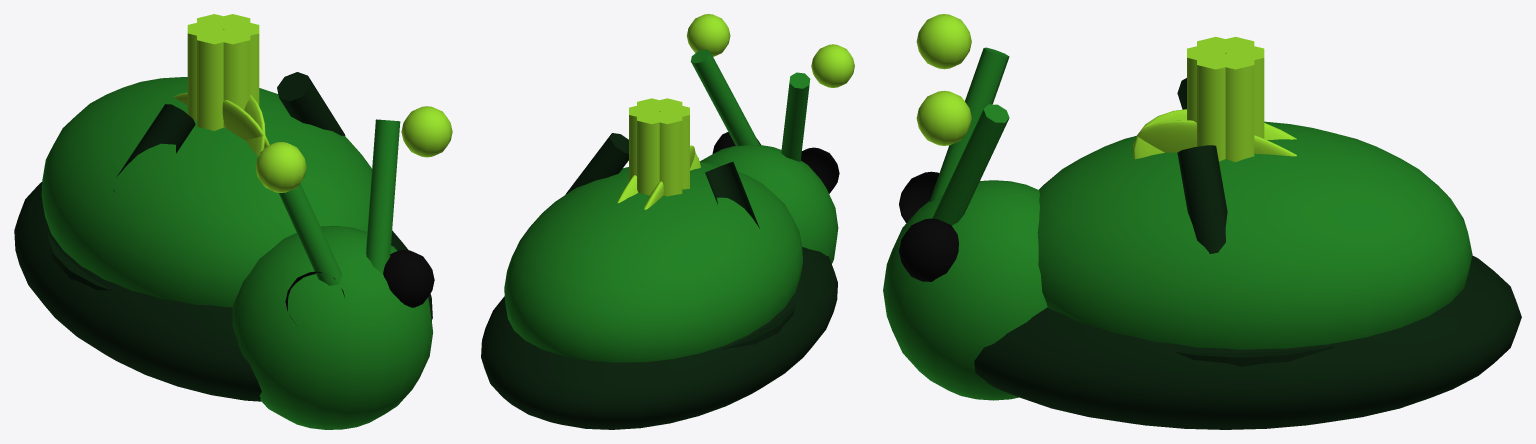
File: primigenia.obj
The picture shows the model from 3 angles, left to right: view 1: azimuth 30°, elevation 25°; view 2: azimuth 150°, elevation 25°; view 3: azimuth 270°, elevation 25°; orthographic projection. The views are drawn at different scales.
Size of the model in its own units: 0.496 by 0.4712 by 0.8023.
